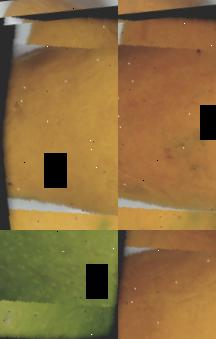Ripe: (0, 5, 118, 230), (118, 4, 216, 230), (118, 230, 216, 339)
Unripe: (0, 230, 118, 339)
